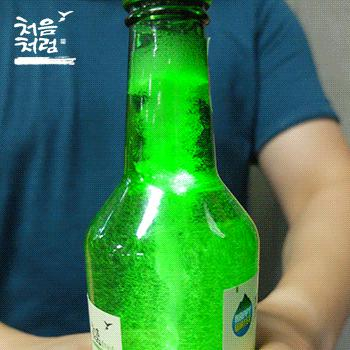soju: (82, 1, 260, 350)
